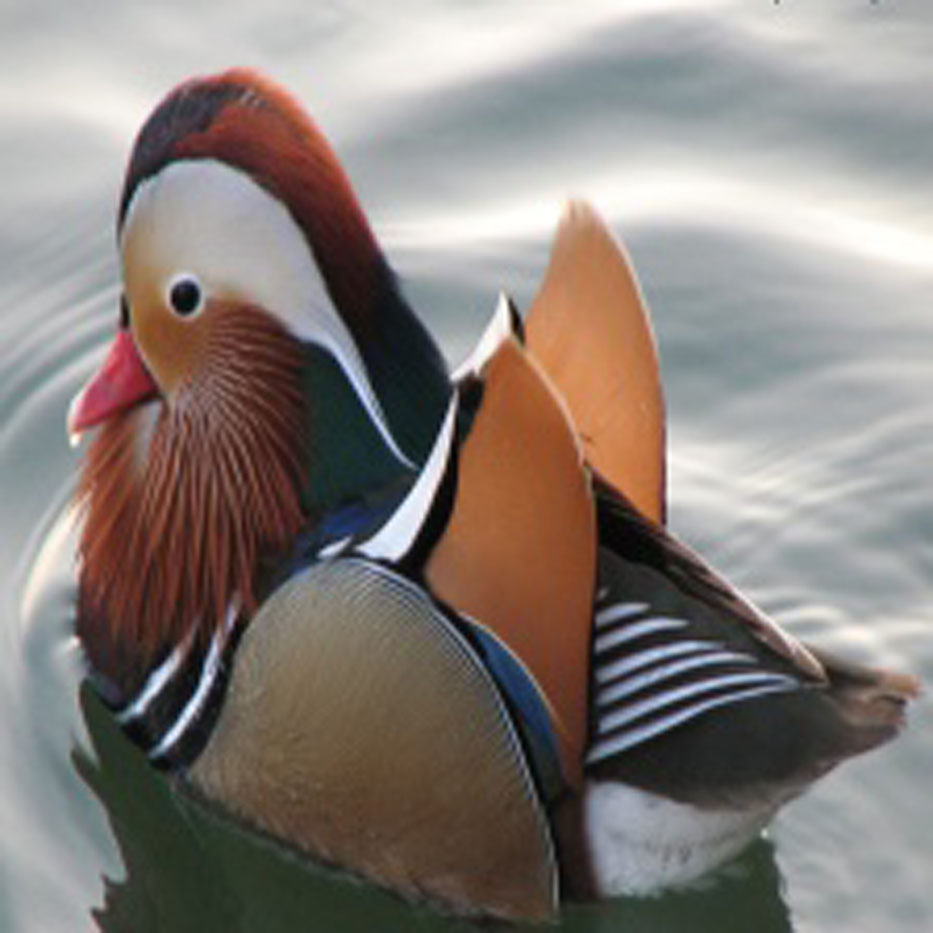Mencari Makan di Lumpur: (24, 334, 151, 444)
